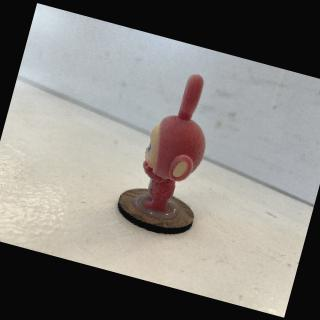teletubby: (143, 74, 205, 211)
